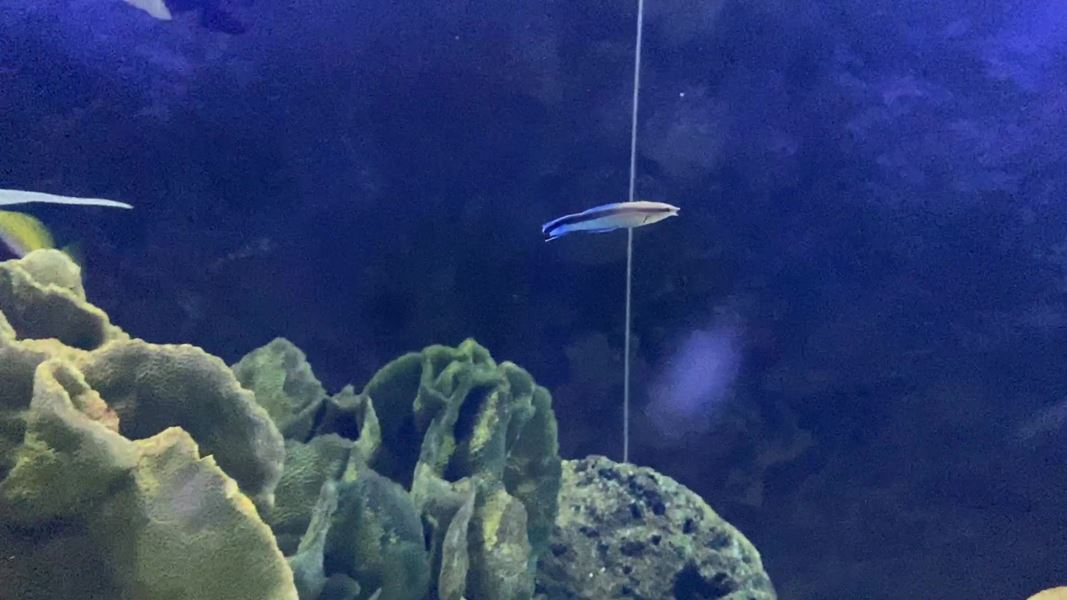Bluesteak cleaner wrasse: (535, 193, 683, 247)
